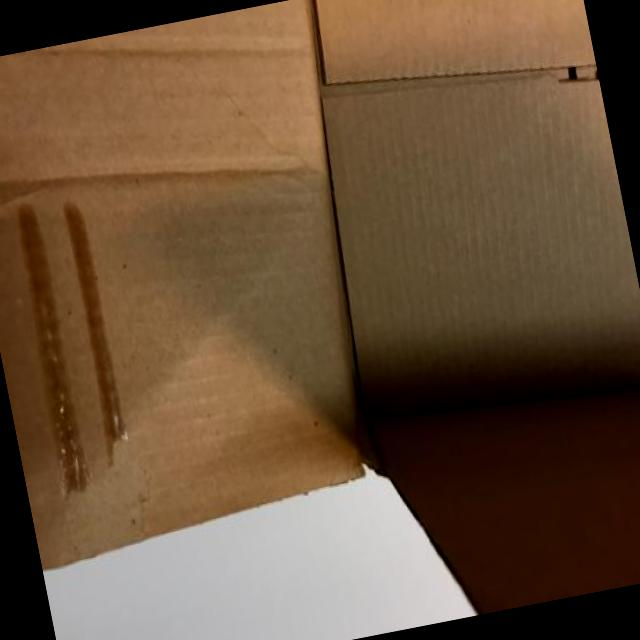cardboard: (0, 0, 639, 610), (0, 0, 360, 566), (316, 0, 639, 612), (323, 69, 639, 419), (371, 391, 639, 612), (316, 0, 595, 83)
